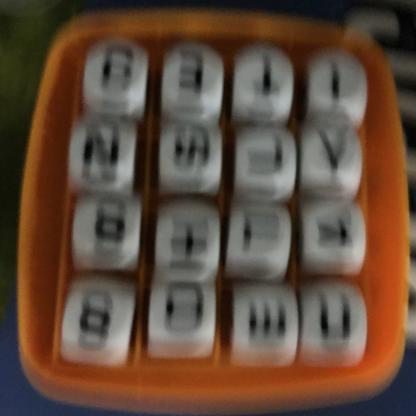e: (165, 44, 220, 107), (240, 294, 294, 341)
f: (238, 206, 289, 262), (241, 132, 292, 179)
h: (166, 213, 214, 265)
i: (319, 59, 358, 106)
n: (80, 121, 130, 178)
o: (160, 284, 209, 339)
s: (72, 287, 124, 341), (163, 125, 218, 176), (87, 205, 137, 255)
t: (241, 53, 290, 105)
u: (315, 299, 361, 345)
y: (312, 127, 358, 183)
